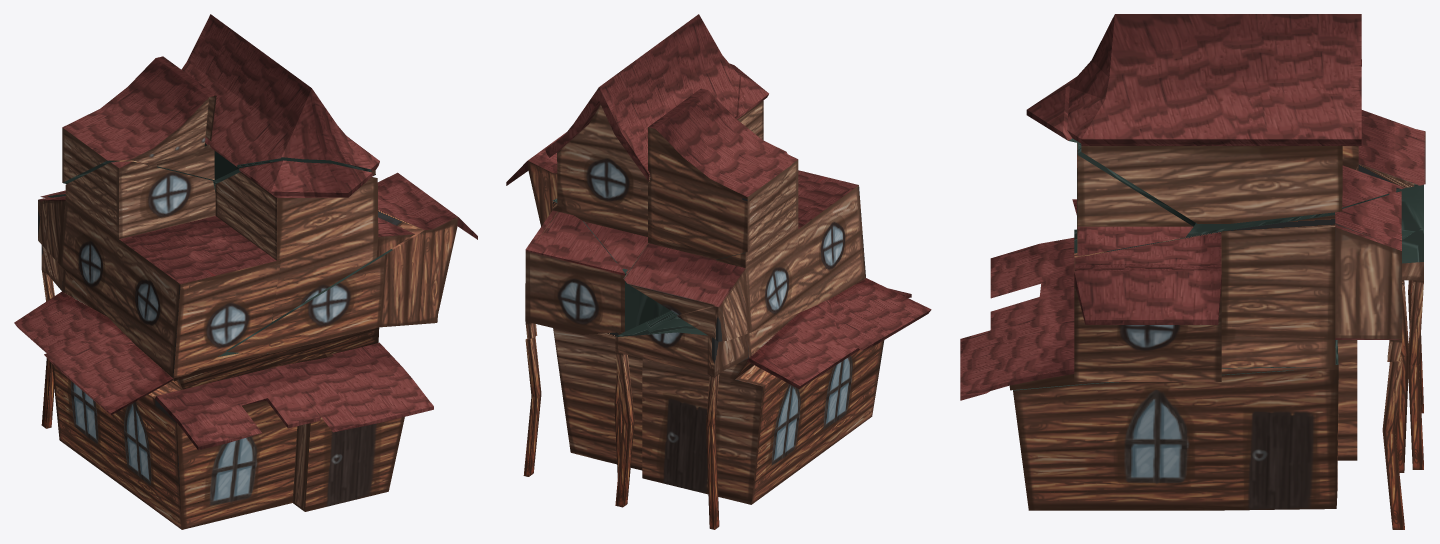
File: House3_shatter.fbx
3 renders of one model, left to right at view 1: azimuth 30°, elevation 25°; view 2: azimuth 150°, elevation 25°; view 3: azimuth 270°, elevation 25°, orthographic. The views are drawn at different scales.
Visible parts, largest first — view 1: polySurface3, polySurface5, polySurface4, polySurface8, polySurface6, polySurface7; view 2: polySurface3, polySurface7, polySurface5, polySurface6, polySurface4, polySurface10, polySurface8; view 3: polySurface3, polySurface6, polySurface4, polySurface8, polySurface7, polySurface10, polySurface5.
Boxes of the visible parts, x1=… form: polySurface3: x1=14, y1=245, x2=433, y2=529; polySurface5: x1=38, y1=161, x2=280, y2=415; polySurface4: x1=214, y1=172, x2=477, y2=403; polySurface8: x1=215, y1=160, x2=414, y2=321; polySurface6: x1=181, y1=14, x2=379, y2=185; polySurface7: x1=40, y1=56, x2=216, y2=198; polySurface3: x1=553, y1=288, x2=911, y2=529; polySurface7: x1=623, y1=88, x2=791, y2=315; polySurface5: x1=677, y1=154, x2=931, y2=350; polySurface6: x1=545, y1=14, x2=739, y2=269; polySurface4: x1=506, y1=132, x2=670, y2=338; polySurface10: x1=523, y1=336, x2=541, y2=476; polySurface8: x1=729, y1=63, x2=768, y2=140; polySurface3: x1=960, y1=184, x2=1423, y2=510; polySurface6: x1=1067, y1=14, x2=1396, y2=223; polySurface4: x1=964, y1=191, x2=1402, y2=394; polySurface8: x1=1026, y1=77, x2=1195, y2=256; polySurface7: x1=1342, y1=123, x2=1425, y2=189; polySurface10: x1=1382, y1=356, x2=1404, y2=529; polySurface5: x1=1072, y1=110, x2=1413, y2=235.
Bounding box in the file's own units: 1.59 × 1.61 × 1.41.
